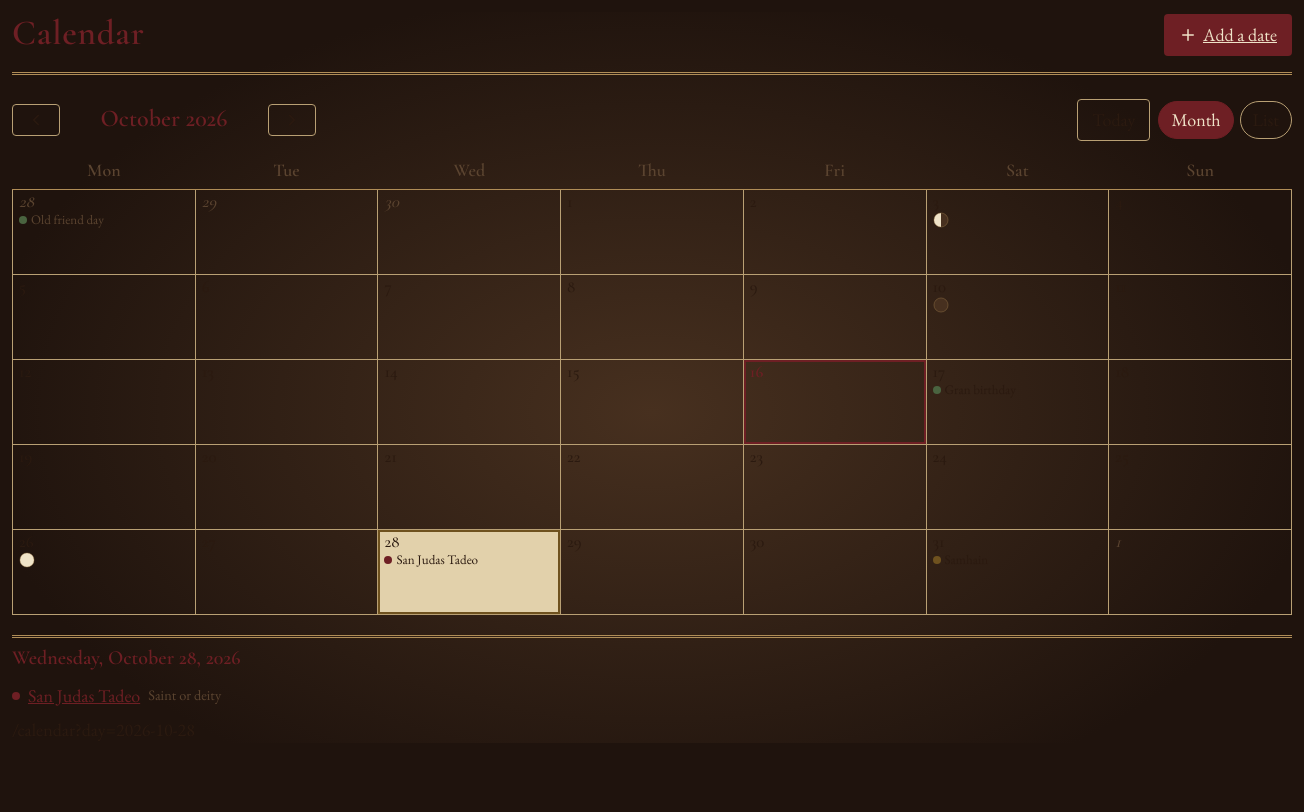
Test: Calendar › moves to the next month and back to today
Click the button named "Next month". click: [292, 120]
box: left=268, top=104, right=316, bottom=136
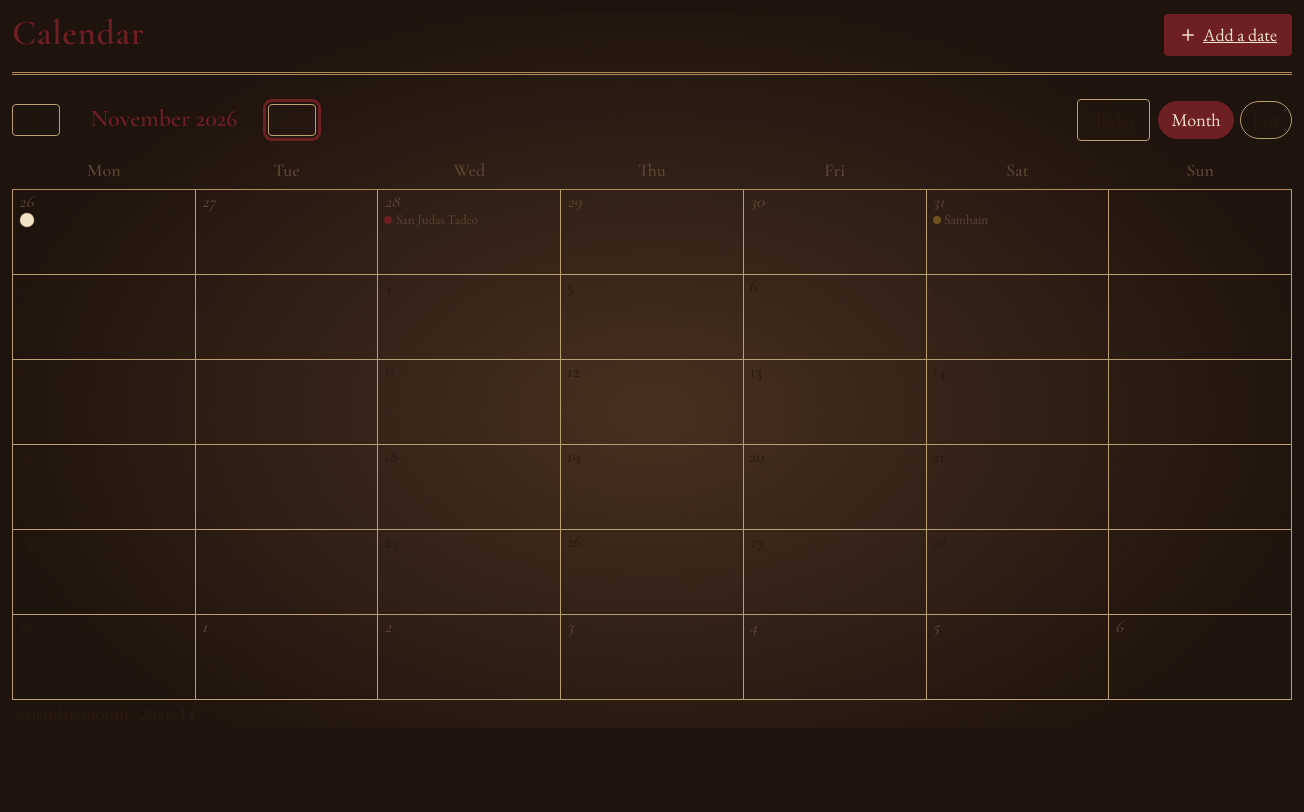
Expected: the text with test id "where" reads "/calendar?month=2026-11", left=12, top=702, right=196, bottom=725
Expected: the text with test id "where" no longer shows "day=", left=12, top=702, right=196, bottom=725
Expected: the heading "November 2026" is shown, left=90, top=104, right=238, bottom=133
Click the button "Today". click: [1114, 120]
box: left=1077, top=99, right=1150, bottom=141
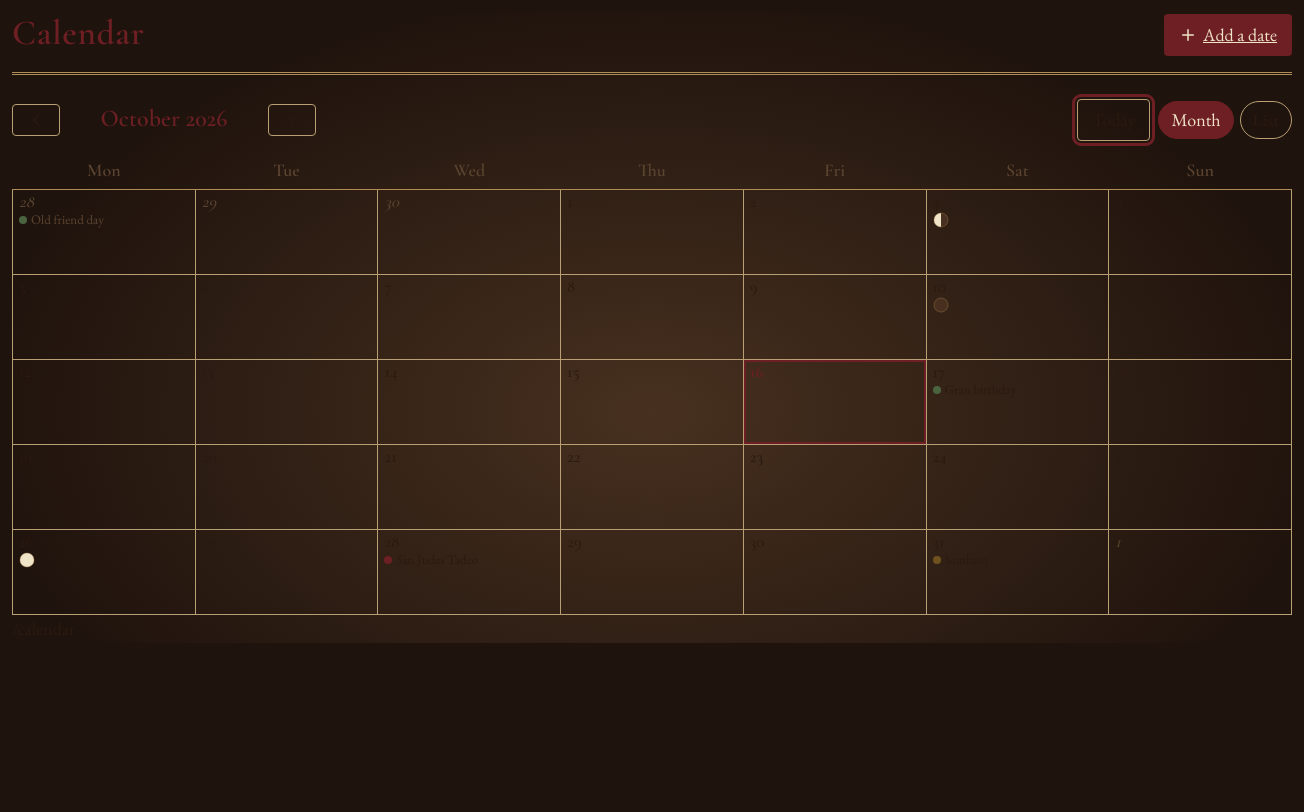
Expected: the heading "October 2026" is shown, left=100, top=104, right=227, bottom=133
